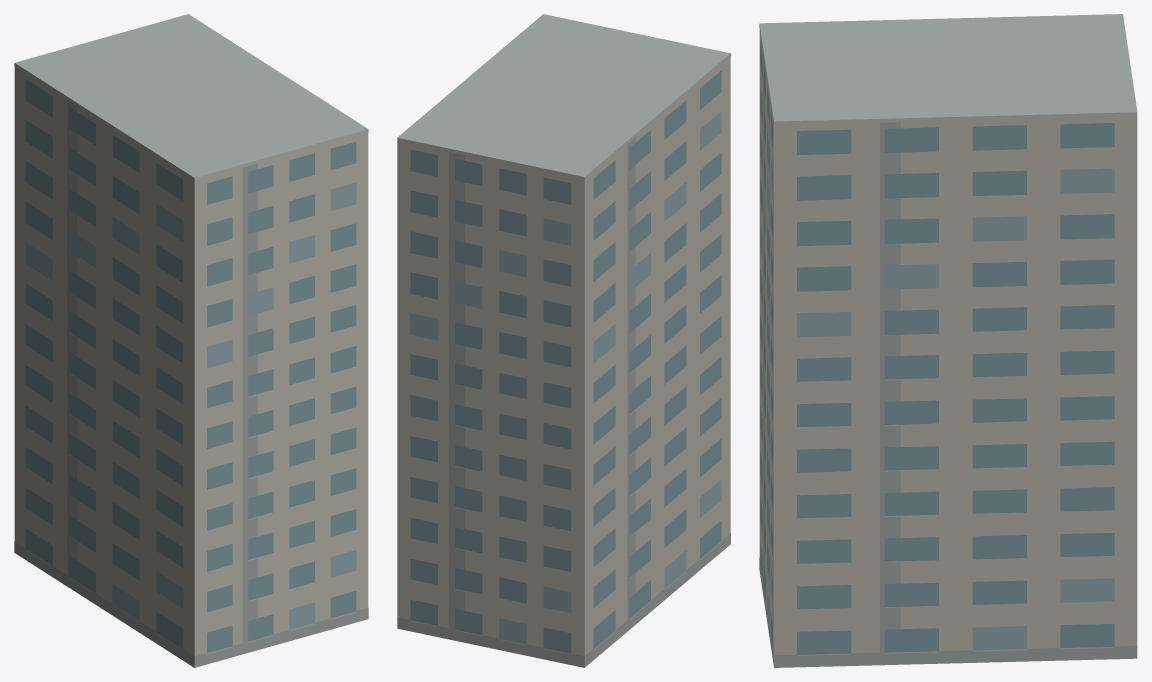
The model's file is survey-upis-32739881.glb.
3 views of the same model, side by side, from view 1: azimuth 30°, elevation 25°; view 2: azimuth 150°, elevation 25°; view 3: azimuth 270°, elevation 25° (orthographic). The views are drawn at different scales.
Visible parts, largest first — view 1: survey-upis-32739881.tmp; view 2: survey-upis-32739881.tmp; view 3: survey-upis-32739881.tmp.
Boxes of the visible parts, box(x1,y1,x2,y2) form: survey-upis-32739881.tmp: box(14, 14, 368, 667); survey-upis-32739881.tmp: box(397, 14, 730, 667); survey-upis-32739881.tmp: box(759, 14, 1137, 667).
Bounding box in the file's own units: 14.78 × 35 × 21.95.
